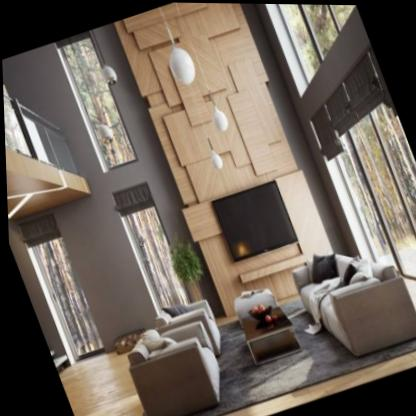Wall Panel: (112, 1, 345, 318)
Window: (266, 3, 356, 96)
Wooden floor: (217, 348, 416, 416), (57, 352, 141, 416)
